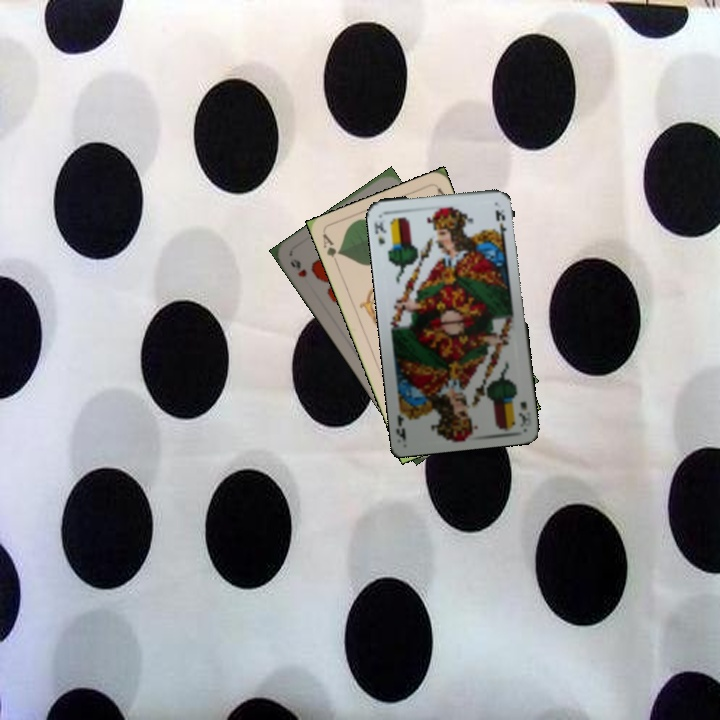EK: (370, 218, 389, 247), (515, 397, 533, 427)
GA: (319, 230, 344, 269)
H9: (286, 255, 309, 280)
